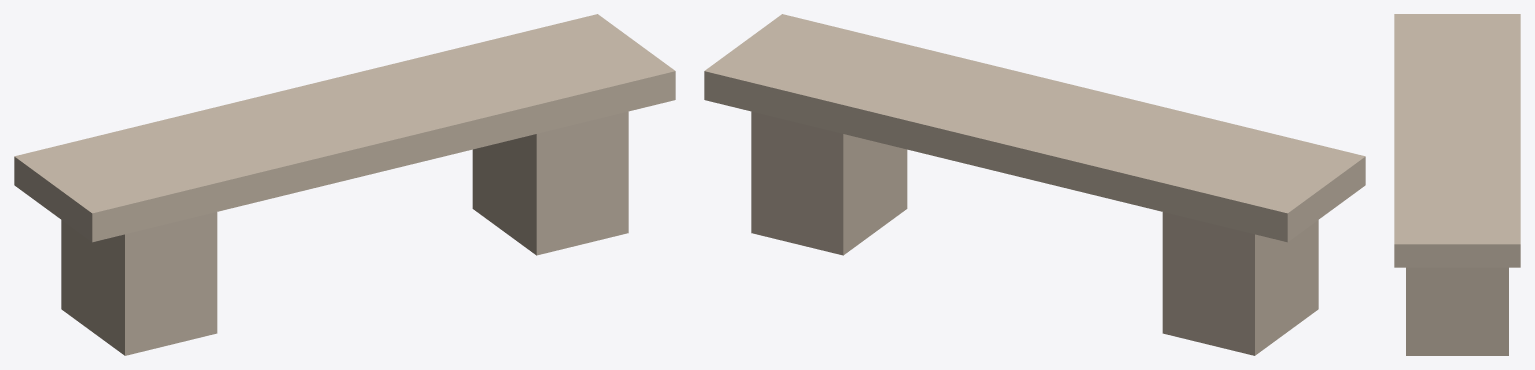
File: SM_BM_BP_StoneBench.glb
3 renders of one model, left to right at view 1: azimuth 30°, elevation 25°; view 2: azimuth 150°, elevation 25°; view 3: azimuth 270°, elevation 25°, orthographic. The views are drawn at different scales.
Parts seen in each view (by area): view 1: SM_BM_BP_StoneBench; view 2: SM_BM_BP_StoneBench; view 3: SM_BM_BP_StoneBench.
Part boxes in pixels (x1,y1,x2,y2): SM_BM_BP_StoneBench: (14, 14, 675, 355); SM_BM_BP_StoneBench: (704, 14, 1365, 355); SM_BM_BP_StoneBench: (1394, 14, 1520, 355).
Bounding box in the file's own units: 1.9 × 0.49 × 0.44.
